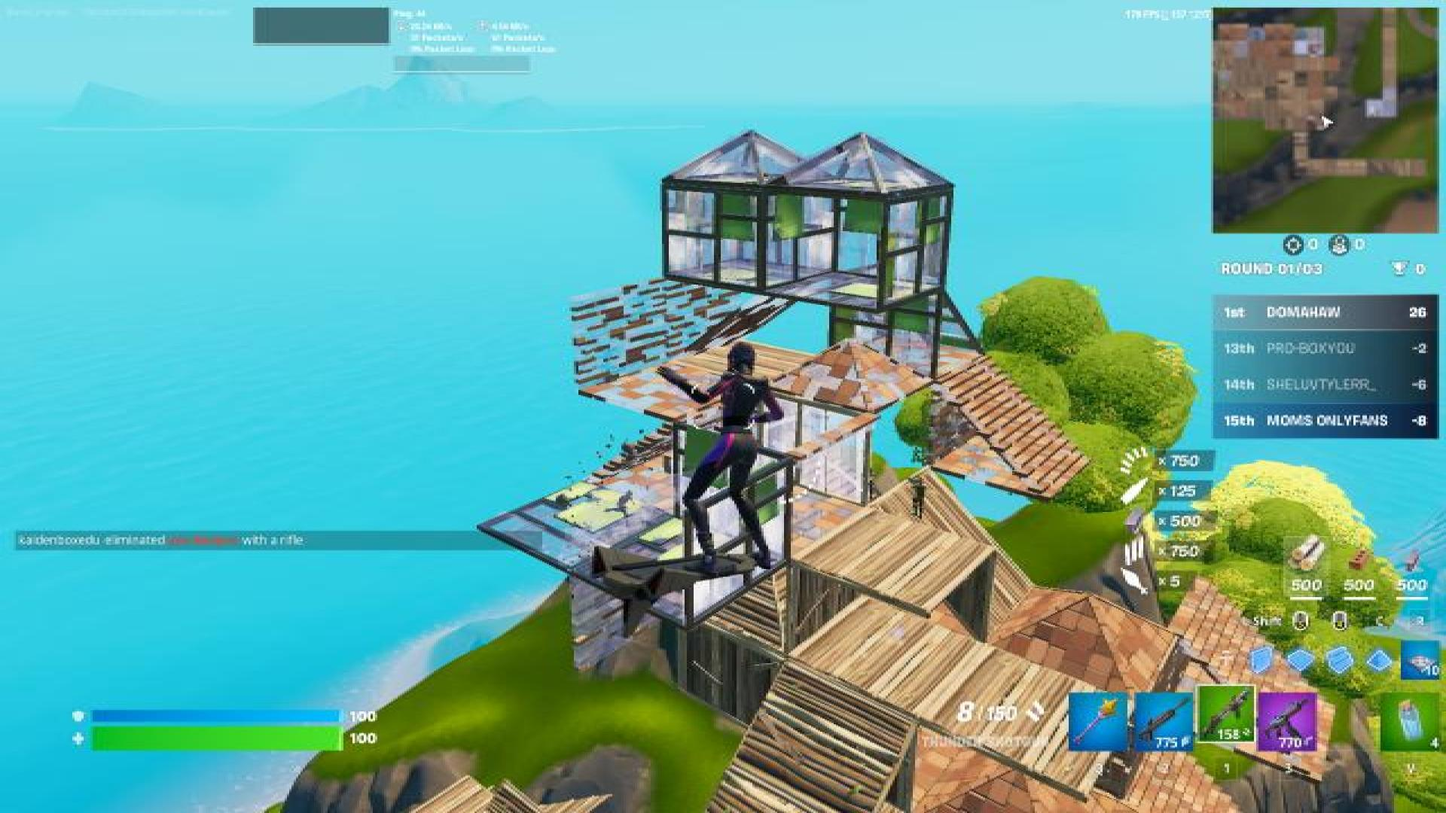player: (602, 485, 645, 533), (899, 474, 933, 522)
